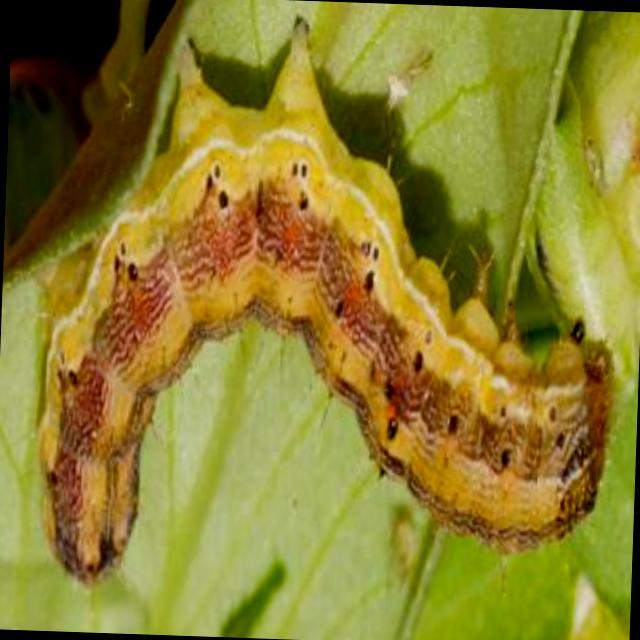Cotton bollworm: (26, 10, 632, 619)
